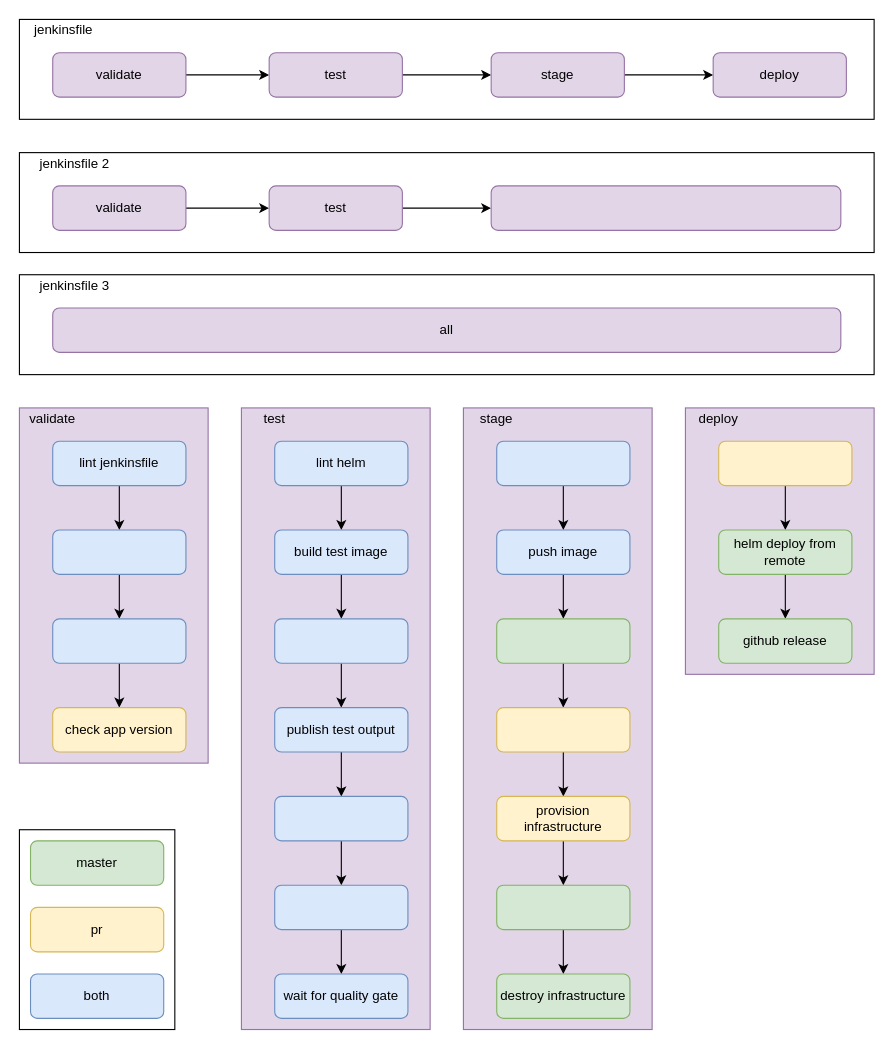
Image size: 894x1049. Some labels were removed from this diagram. Each missing label, with the centre of its shape:
build image: (x=563, y=463)
check master or pr branch: (x=119, y=640)
create pr namespace: (x=563, y=729)
destroy pr namespace: (x=563, y=907)
fix report path: (x=341, y=818)
helm deploy: (x=785, y=463)
push helm: (x=563, y=640)
run unit tests: (x=341, y=640)
set build variables: (x=119, y=551)
sonarqube analysis: (x=341, y=907)
stage and deploy: (x=665, y=207)
